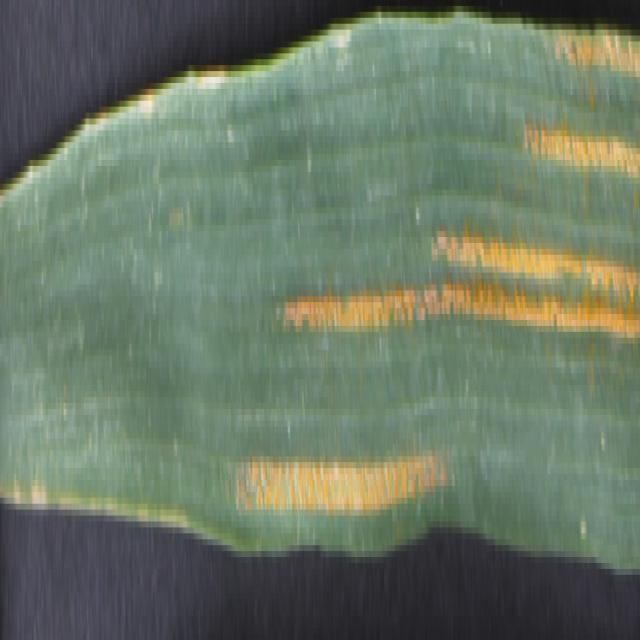leaf rust: (232, 48, 638, 551)
